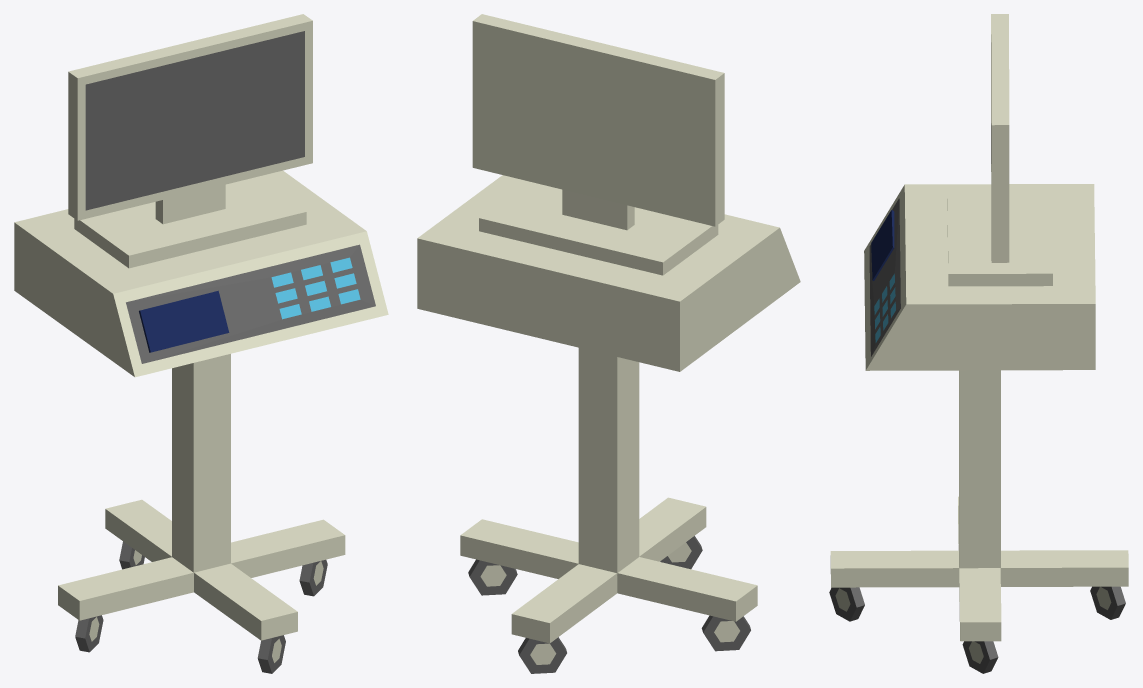
File: pacient-monitor-hospital.fbx
3 views of the same model, side by side, from view 1: azimuth 30°, elevation 25°; view 2: azimuth 150°, elevation 25°; view 3: azimuth 270°, elevation 25° (orthographic). The views are drawn at different scales.
Visible parts, largest first — view 1: pacient-monitor-hospital; view 2: pacient-monitor-hospital; view 3: pacient-monitor-hospital.
Boxes of the visible parts, left/top/right/bottom form: pacient-monitor-hospital: left=14, top=14, right=388, bottom=673; pacient-monitor-hospital: left=417, top=14, right=800, bottom=673; pacient-monitor-hospital: left=829, top=14, right=1128, bottom=673.
Bounding box in the file's own units: 124 × 250 × 124.
